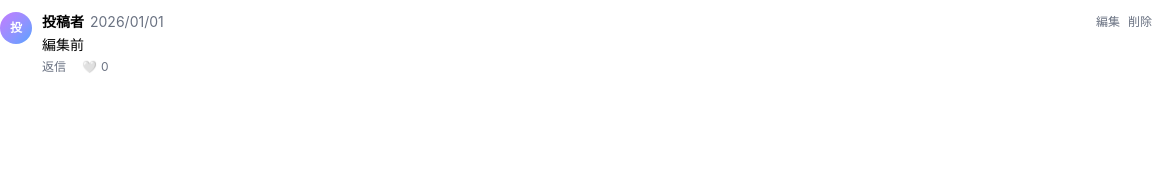
Test: CommentThread › 編集に失敗するとエラーを表示し編集欄は閉じない
Click the button "編集": [1108, 22] box [1096,14,1120,30]
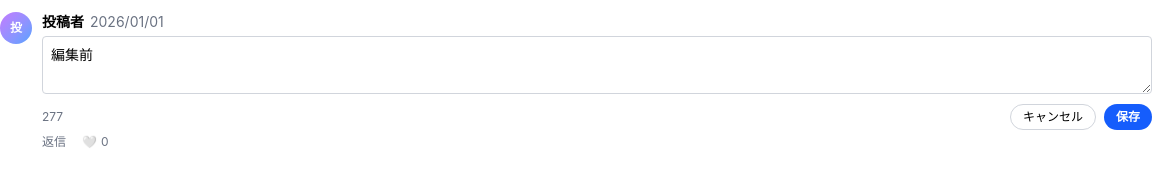
Click the button "保存": [1128, 117] box [1104,104,1152,130]
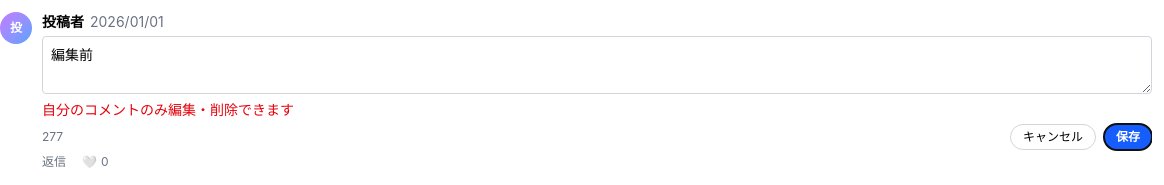
Now the text box is shown, box [42,36,1152,94]
Now the text "自分のコメントのみ編集・削除できます" is shown, box [42,101,294,118]
